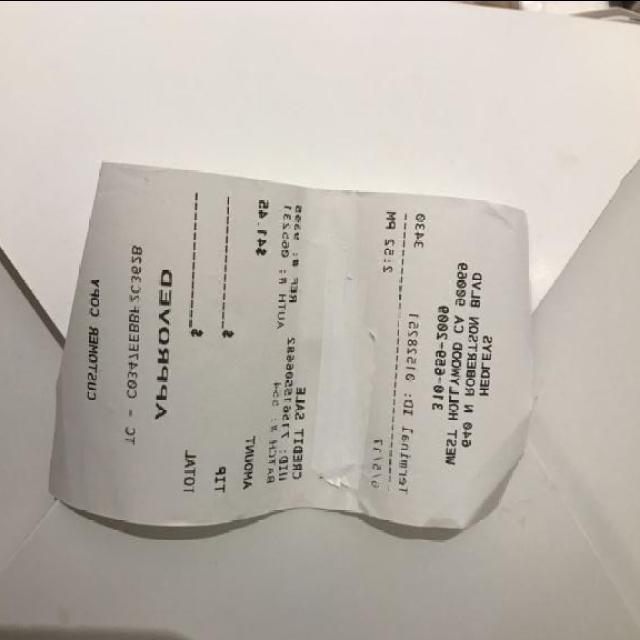kertas: (44, 158, 553, 562)
